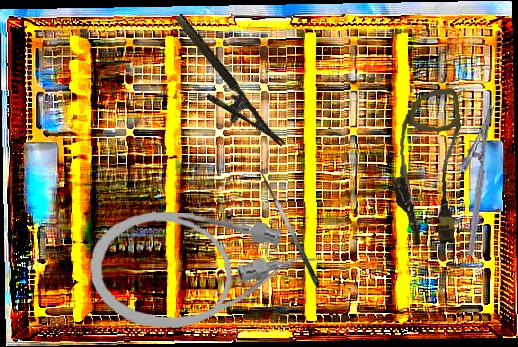Cannula: (87, 208, 317, 335), (385, 87, 473, 249)
Needle Holder: (156, 12, 286, 164), (447, 102, 495, 257)
Spatula Surgical: (249, 164, 322, 292)
